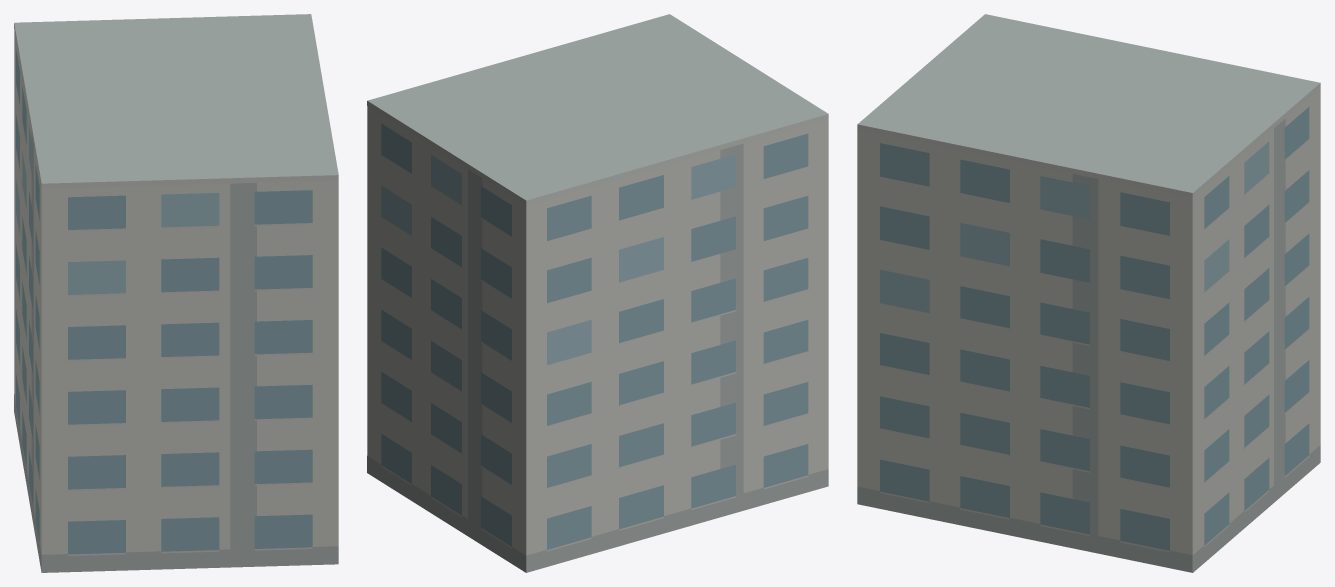
Rendered from survey-upis-32977867.glb.
3 views of the same model, side by side, from view 1: azimuth 30°, elevation 25°; view 2: azimuth 150°, elevation 25°; view 3: azimuth 270°, elevation 25° (orthographic). The views are drawn at different scales.
Visible parts, largest first — view 1: survey-upis-32977867.tmp; view 2: survey-upis-32977867.tmp; view 3: survey-upis-32977867.tmp.
Part boxes in pixels (x1,y1,x2,y2): survey-upis-32977867.tmp: (14,14,338,572); survey-upis-32977867.tmp: (367,14,828,572); survey-upis-32977867.tmp: (857,14,1320,572).
Size of the model in its own units: 17.7 by 17.5 by 19.35.
